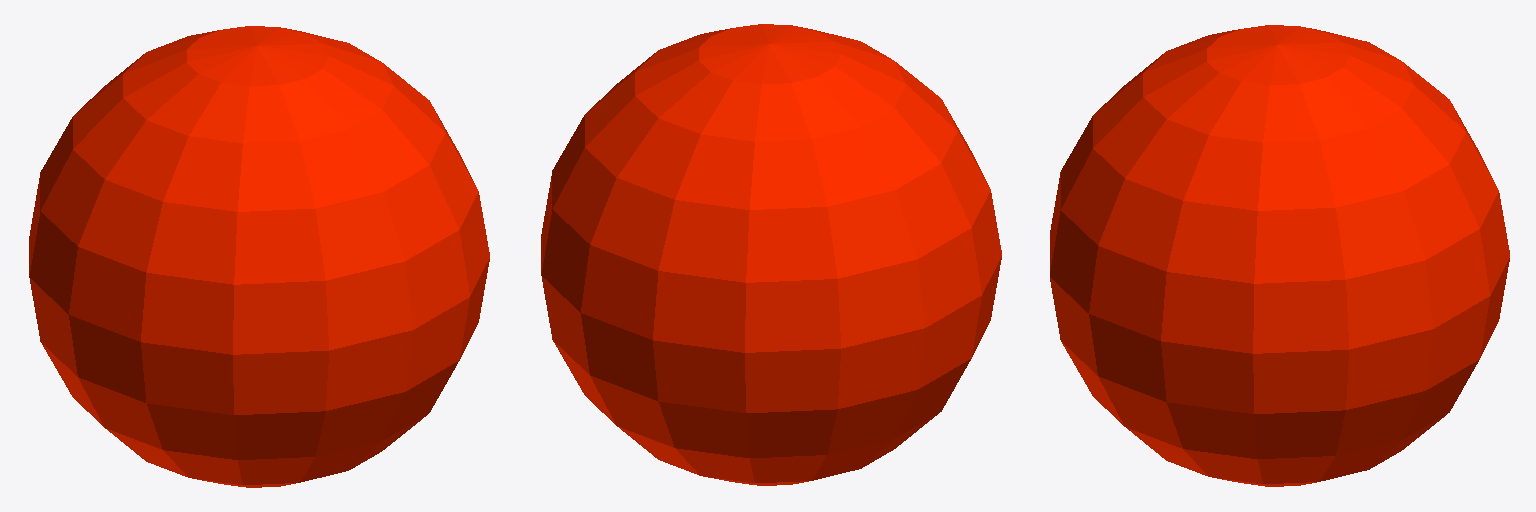
The model's file is green_projectile.obj.
3 renders of one model, left to right at view 1: azimuth 30°, elevation 25°; view 2: azimuth 150°, elevation 25°; view 3: azimuth 270°, elevation 25°, orthographic.
Parts seen in each view (by area): view 1: Sphere; view 2: Sphere; view 3: Sphere.
Part boxes in pixels (left/top/right/bottom): Sphere: left=29, top=26, right=489, bottom=487; Sphere: left=541, top=24, right=1001, bottom=485; Sphere: left=1050, top=25, right=1509, bottom=486.
Bounding box in the file's own units: 0.4973 × 0.5 × 0.4945.